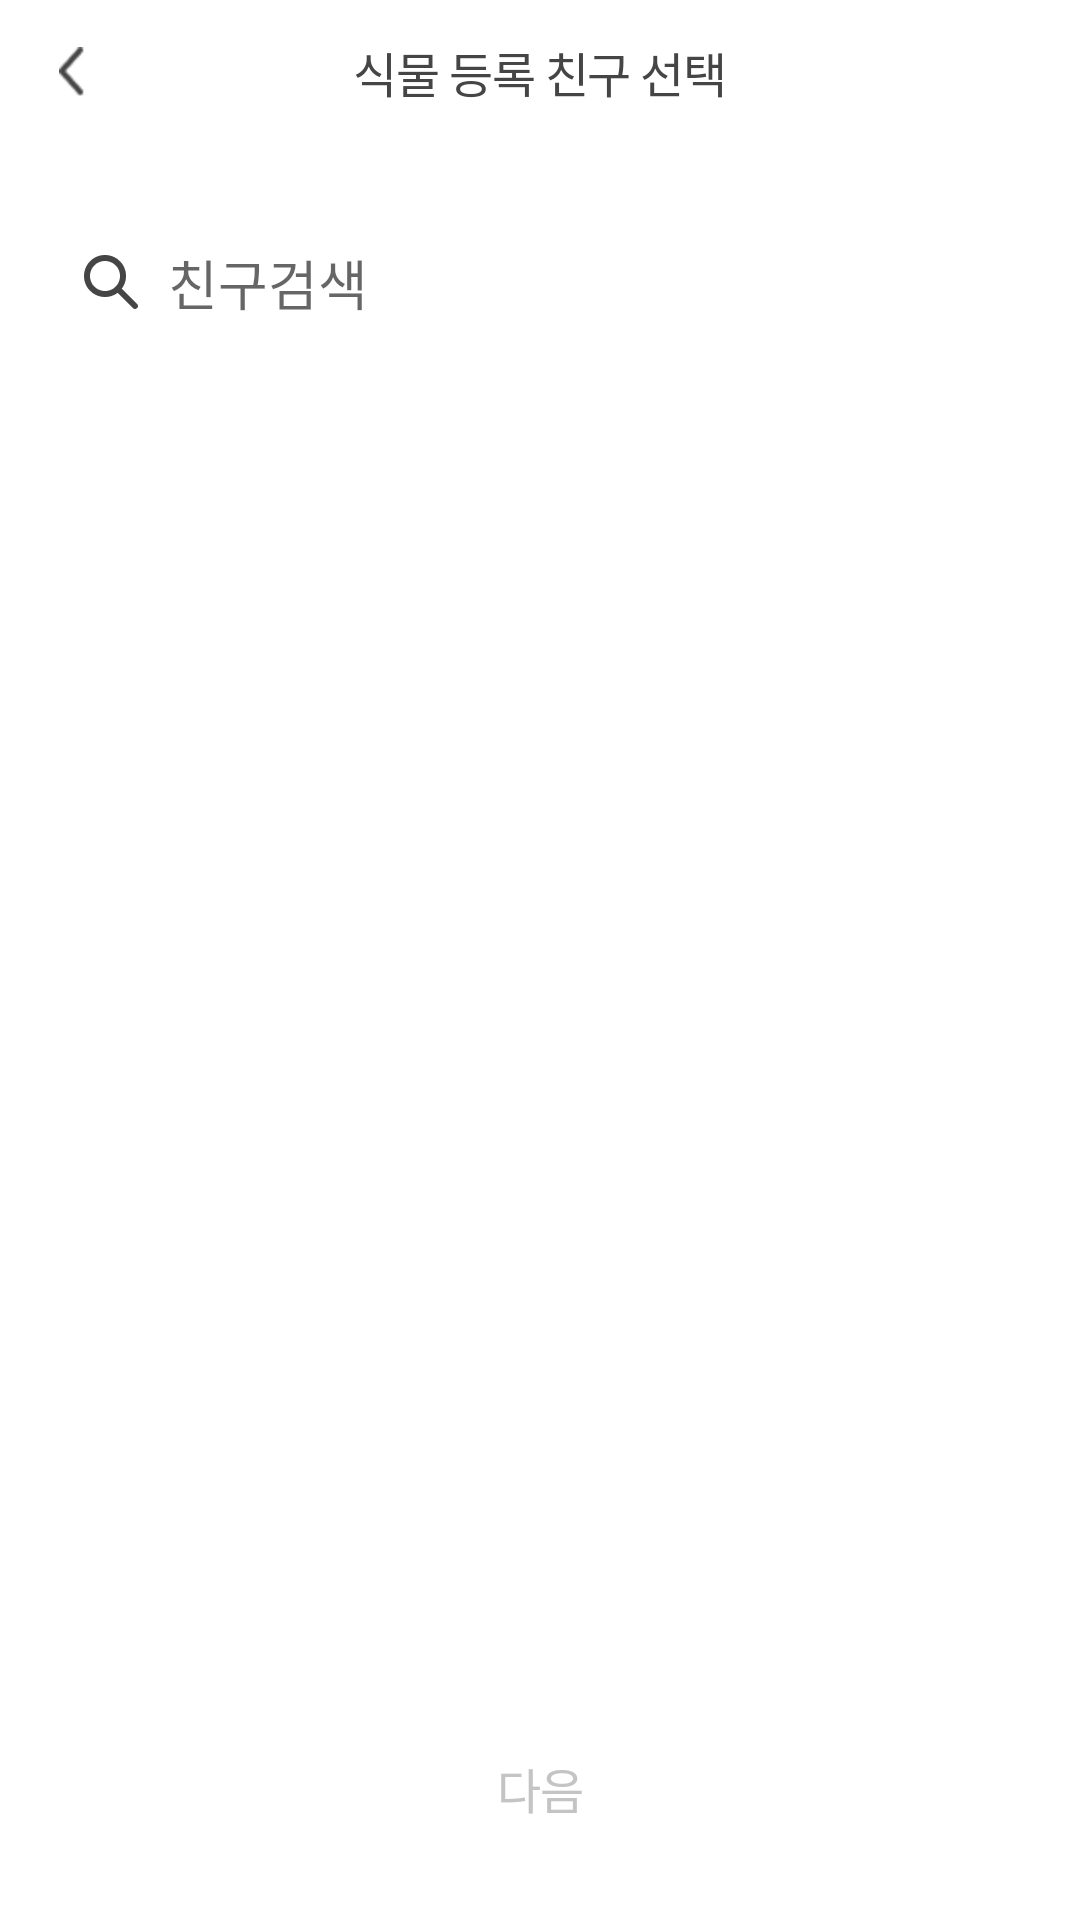

Icons on this 1080w x 1920h Android screen, each with the point to tap as (x=x, y=y):
gnb back: (x=71, y=71)
search box: (x=111, y=282)
